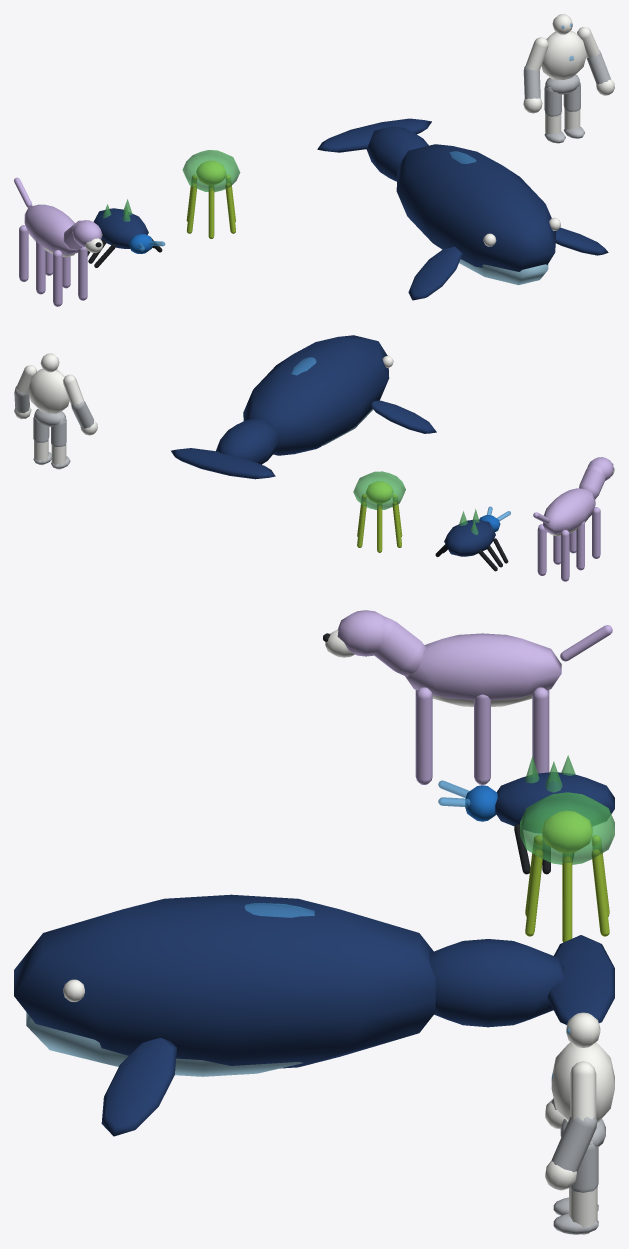
The model's file is frontier.glb.
3 views of the same model, one above another, from view 1: azimuth 30°, elevation 25°; view 2: azimuth 150°, elevation 25°; view 3: azimuth 270°, elevation 25° (orthographic). The views are drawn at different scales.
Parts seen in each view (by area): view 1: body (×3), tail_1, bell, torso, fin_R, tail_2, joint_neck, fin_L, arm_lower_R, arm_lower_L, leg_0R, leg_2R (+9 smaller); view 2: body (×3), tail_1, tail_2, bell, torso, fin_R, joint_neck, arm_lower_R, leg_2L, leg_2R, leg_0R, arm_lower_L (+6 smaller); view 3: body (×3), tail_1, bell, fin_L, tail_2, joint_neck, torso, head (×2), arm_lower_L, leg_0L, leg_lower_L, leg_2L (+6 smaller).
Boxes of the visible parts, x1=… form: body (×3): x1=24, y1=144, x2=560, y2=285; tail_1: x1=366, y1=126, x2=428, y2=181; bell: x1=182, y1=150, x2=240, y2=192; torso: x1=541, y1=30, x2=586, y2=80; fin_R: x1=408, y1=246, x2=462, y2=300; tail_2: x1=317, y1=118, x2=431, y2=152; joint_neck: x1=63, y1=220, x2=103, y2=252; fin_L: x1=555, y1=227, x2=608, y2=255; arm_lower_R: x1=523, y1=65, x2=542, y2=113; arm_lower_L: x1=586, y1=50, x2=614, y2=95; leg_0R: x1=53, y1=250, x2=62, y2=306; leg_2R: x1=19, y1=225, x2=28, y2=281; body (×3): x1=243, y1=335, x2=595, y2=556; tail_1: x1=216, y1=419, x2=279, y2=464; tail_2: x1=171, y1=448, x2=275, y2=479; bell: x1=353, y1=471, x2=405, y2=509; torso: x1=28, y1=368, x2=69, y2=413; fin_R: x1=370, y1=400, x2=436, y2=433; joint_neck: x1=579, y1=457, x2=614, y2=498; arm_lower_R: x1=71, y1=400, x2=97, y2=435; leg_2L: x1=537, y1=524, x2=546, y2=575; leg_2R: x1=561, y1=529, x2=569, y2=581; leg_0R: x1=592, y1=507, x2=600, y2=558; arm_lower_L: x1=14, y1=386, x2=31, y2=419; body (×3): x1=14, y1=633, x2=614, y2=1076; tail_1: x1=429, y1=939, x2=563, y2=1027; bell: x1=520, y1=792, x2=614, y2=864; fin_L: x1=101, y1=1038, x2=176, y2=1136; tail_2: x1=547, y1=935, x2=614, y2=1024; joint_neck: x1=323, y1=610, x2=426, y2=676; torso: x1=551, y1=1042, x2=614, y2=1122; head (×2): x1=438, y1=780, x2=600, y2=1047; arm_lower_L: x1=545, y1=1116, x2=597, y2=1190; leg_0L: x1=415, y1=687, x2=432, y2=784; leg_lower_L: x1=553, y1=1187, x2=598, y2=1234; leg_2L: x1=532, y1=687, x2=549, y2=773.
Size of the model in its own units: 100 by 19.6 by 50.51.
